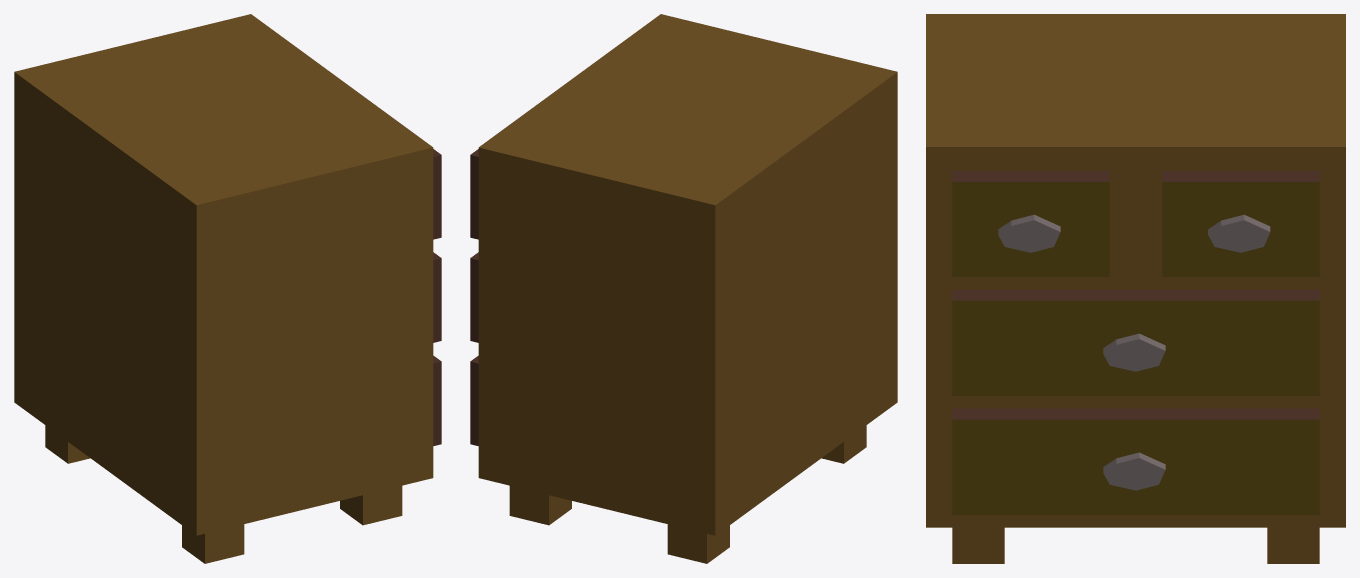
The model's file is obj_drawers_7_0.obj.
The picture shows the model from 3 angles, left to right: view 1: azimuth 30°, elevation 25°; view 2: azimuth 150°, elevation 25°; view 3: azimuth 270°, elevation 25°; orthographic projection. The views are drawn at different scales.
Bounding box in the file's own units: 0.8438 × 1.12 × 1.
